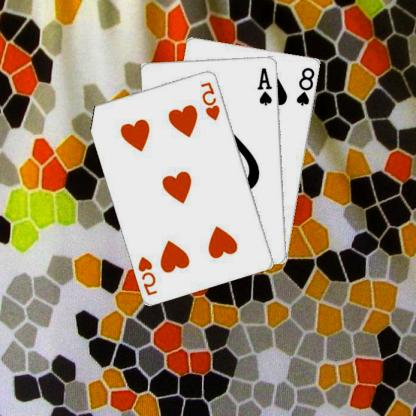5H: (200, 79, 223, 121), (137, 254, 160, 296)
8S: (296, 64, 318, 106)
AS: (256, 65, 275, 106)
